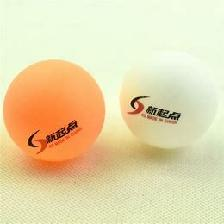WhiteBall: (119, 52, 217, 149)
YellowBall: (2, 59, 104, 160)
